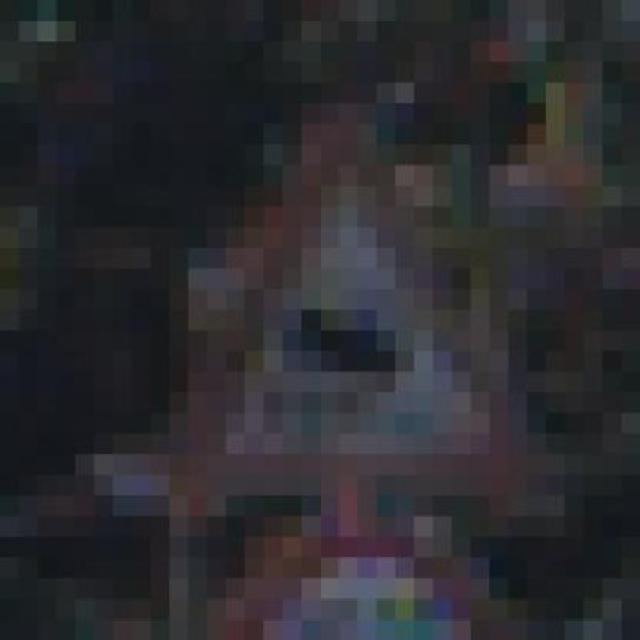Slippery Road Ahead: (169, 83, 546, 537)
